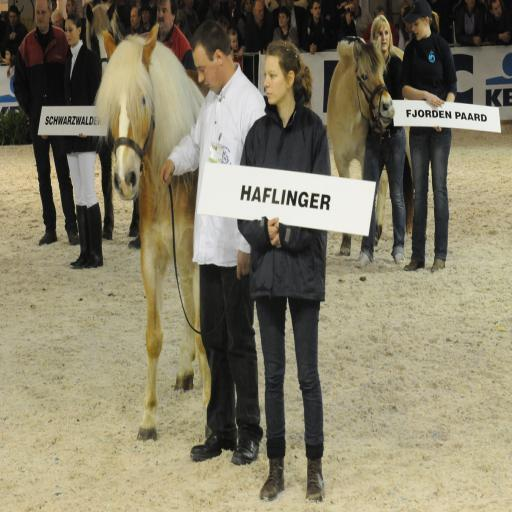horse: (90, 21, 205, 444), (328, 34, 414, 260)
